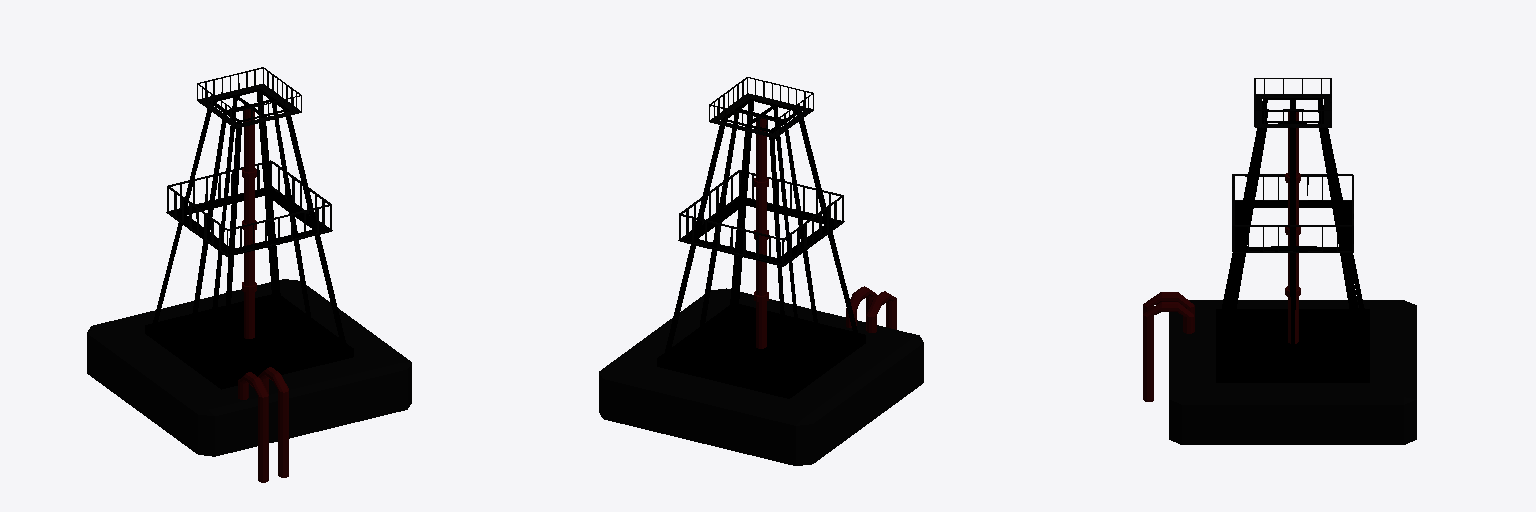
File: oil.obj
3 renders of one model, left to right at view 1: azimuth 30°, elevation 25°; view 2: azimuth 150°, elevation 25°; view 3: azimuth 270°, elevation 25°, orthographic.
Parts seen in each view (by area): view 1: Cube.001, Cube, tower_plain.002, Cube.002, Cylinder, Plane, Cylinder.004, Cylinder.005, Cube.003_Cube.001, Plane.001; view 2: Cube.001, Cube, tower_plain.002, Cube.002, Cylinder, Plane, Cube.003_Cube.001, Cylinder.004, Plane.001; view 3: Cube.001, Cube, tower_plain.002, Plane, Cylinder.005, Cube.002, Cylinder, Plane.001, Cube.003_Cube.001.
Part boxes in pixels (bbox=[...]): Cube.001: bbox=[87, 279, 411, 456]; Cube: bbox=[145, 294, 353, 389]; tower_plain.002: bbox=[152, 89, 346, 377]; Cube.002: bbox=[167, 160, 331, 255]; Cylinder: bbox=[244, 105, 254, 338]; Plane: bbox=[166, 186, 332, 256]; Cylinder.004: bbox=[238, 372, 268, 482]; Cylinder.005: bbox=[258, 367, 288, 477]; Cube.003_Cube.001: bbox=[197, 67, 301, 127]; Plane.001: bbox=[199, 85, 301, 128]; Cube.001: bbox=[599, 288, 923, 465]; Cube: bbox=[657, 304, 865, 398]; tower_plain.002: bbox=[664, 99, 858, 387]; Cube.002: bbox=[679, 170, 843, 266]; Cylinder: bbox=[756, 118, 766, 348]; Plane: bbox=[678, 196, 844, 266]; Cube.003_Cube.001: bbox=[709, 77, 813, 137]; Cylinder.004: bbox=[866, 291, 896, 332]; Plane.001: bbox=[710, 94, 812, 138]; Cube.001: bbox=[1169, 300, 1416, 444]; Cube: bbox=[1216, 309, 1369, 382]; tower_plain.002: bbox=[1221, 98, 1364, 371]; Plane: bbox=[1235, 200, 1353, 251]; Cylinder.005: bbox=[1143, 302, 1194, 401]; Cube.002: bbox=[1232, 174, 1353, 252]; Cylinder: bbox=[1288, 112, 1298, 343]; Plane.001: bbox=[1255, 95, 1331, 127]; Cube.003_Cube.001: bbox=[1254, 78, 1331, 127].
Size of the model in its own units: 2 by 2.9 by 2.21.